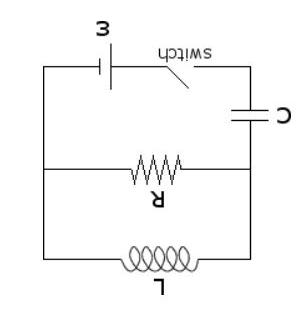inductor: (108, 236, 207, 277)
